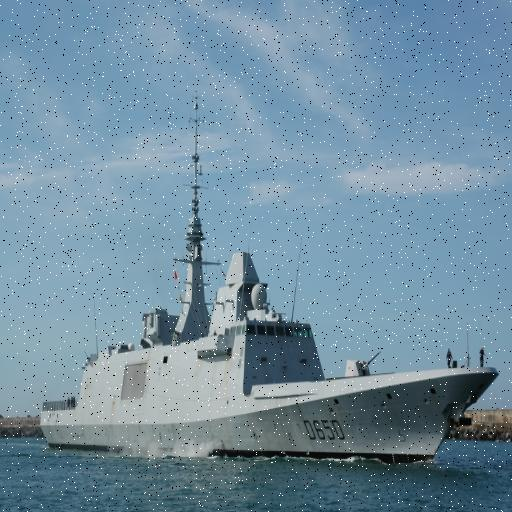Fragata: (32, 81, 504, 473)
